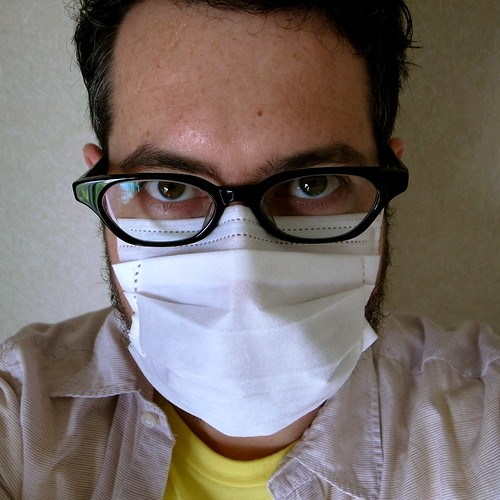mask: (115, 222, 382, 434)
